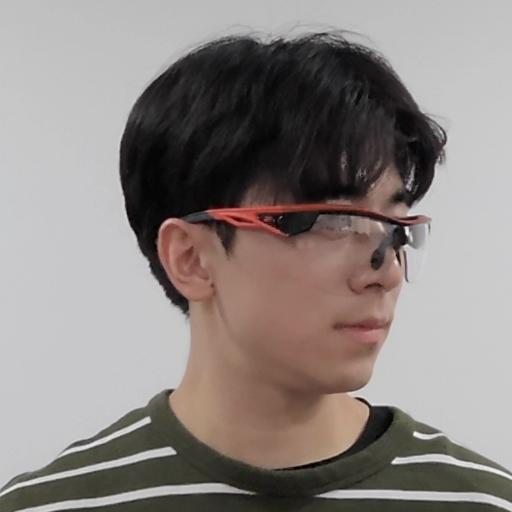glasses: (117, 28, 456, 396)
